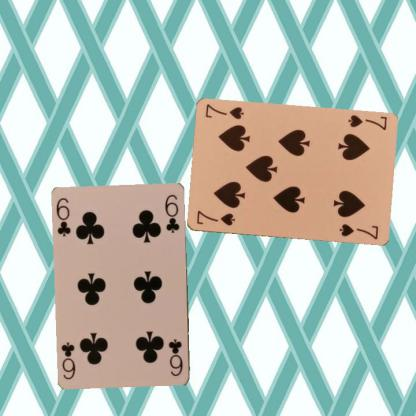6c: (54, 196, 72, 238), (166, 337, 184, 378)
7s: (194, 208, 236, 228), (345, 113, 388, 132)
